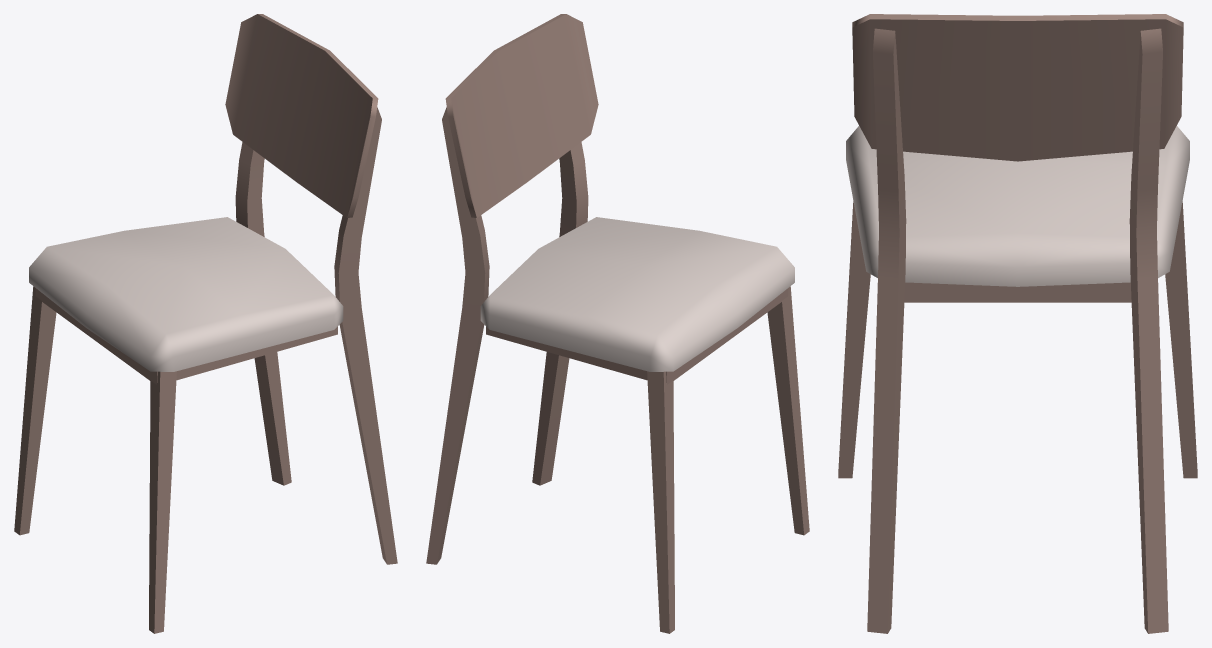
Rendered from kitchen_chair_1.glb.
The picture shows the model from 3 angles, left to right: view 1: azimuth 30°, elevation 25°; view 2: azimuth 150°, elevation 25°; view 3: azimuth 270°, elevation 25°; orthographic projection. The views are drawn at different scales.
Visible parts, largest first — view 1: kitchen_chair_1; view 2: kitchen_chair_1; view 3: kitchen_chair_1.
Boxes of the visible parts, x1=… form: kitchen_chair_1: x1=14, y1=14, x2=397, y2=633; kitchen_chair_1: x1=426, y1=14, x2=809, y2=633; kitchen_chair_1: x1=838, y1=14, x2=1197, y2=633.
Size of the model in its own units: 0.4935 by 0.8645 by 0.4639.
1 material, 1 textured.
